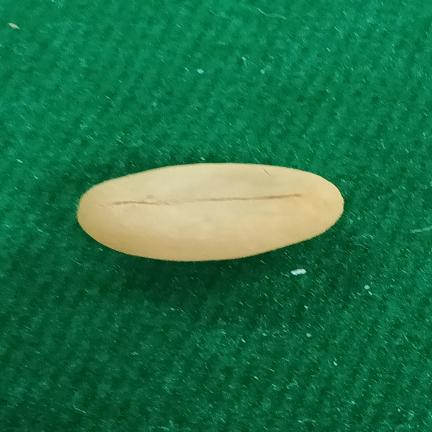parchment: (77, 163, 344, 261)
